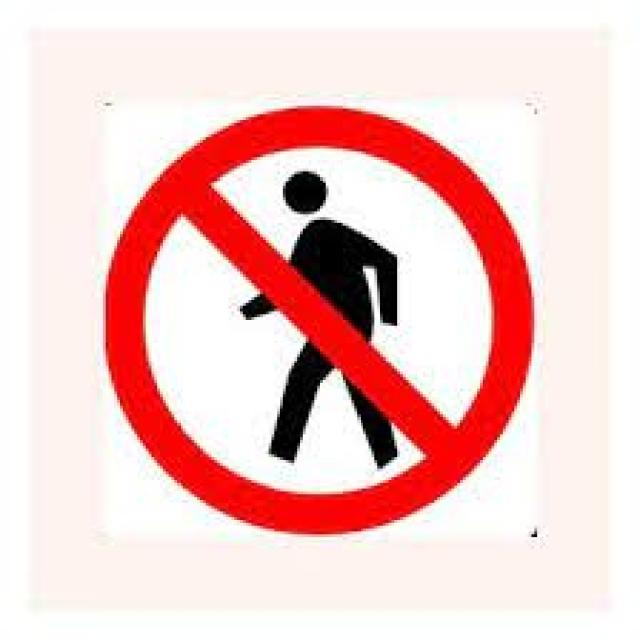Pedestrian-Prohibited: (76, 86, 562, 537)
